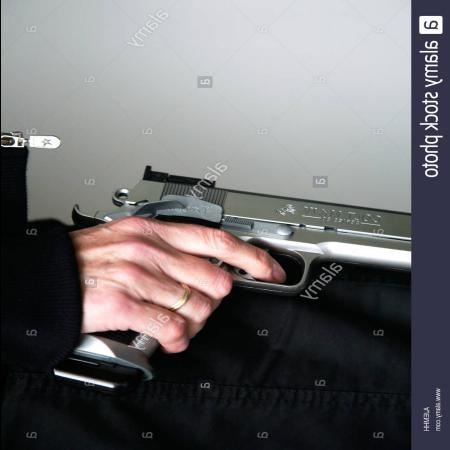Pistol: (32, 164, 408, 398)
